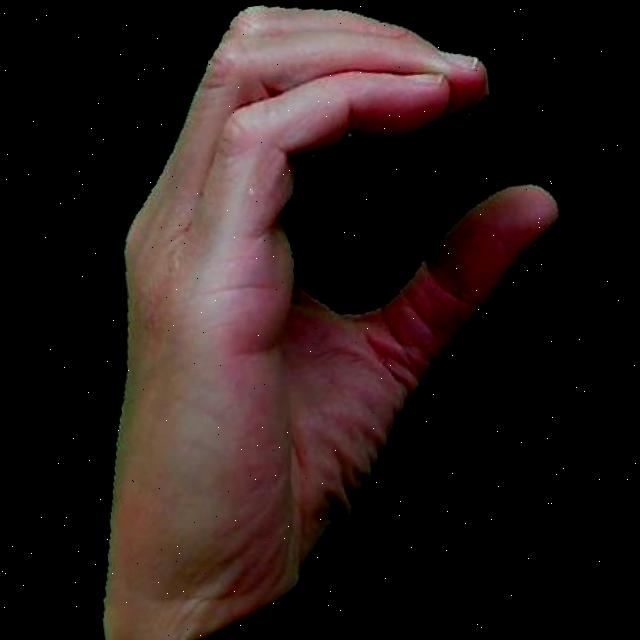c: (11, 0, 624, 640)
